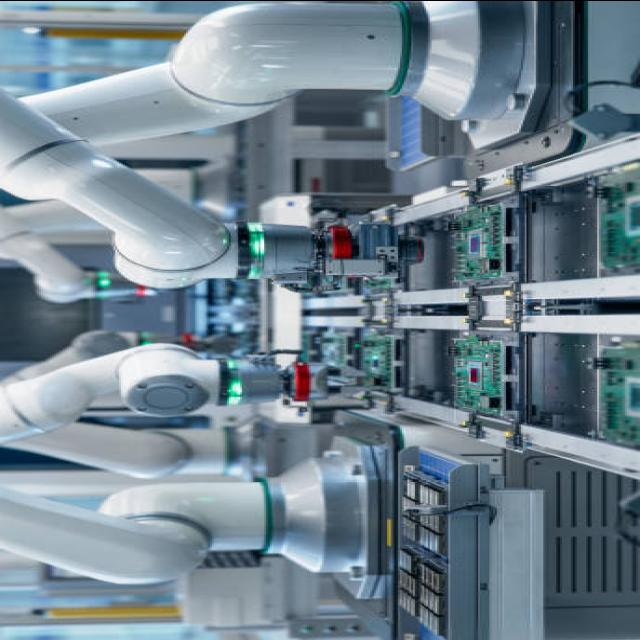Robotic-arm: (0, 0, 589, 286), (0, 330, 293, 476), (1, 476, 310, 586), (0, 200, 153, 310)
